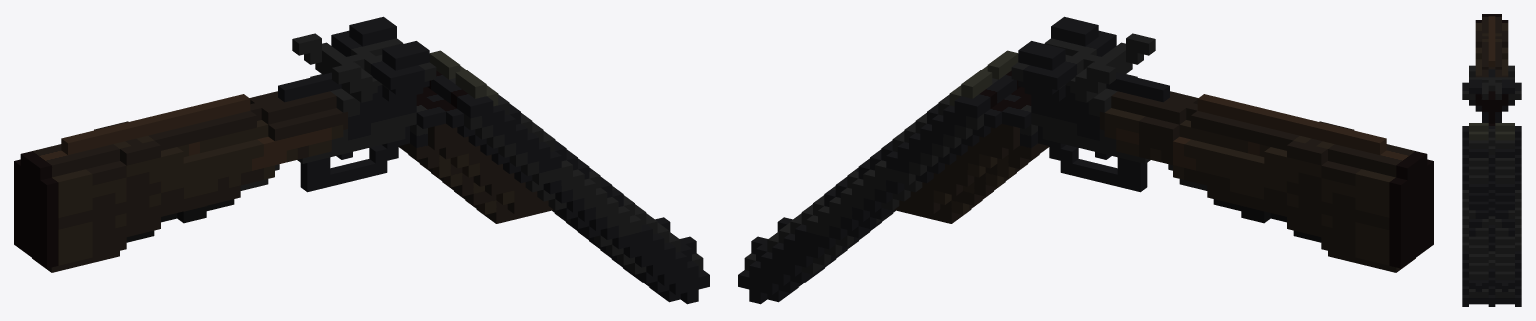
Rendered from ssg3.obj.
The picture shows the model from 3 angles, left to right: view 1: azimuth 30°, elevation 25°; view 2: azimuth 150°, elevation 25°; view 3: azimuth 270°, elevation 25°; orthographic projection. The views are drawn at different scales.
Visible parts, largest first — view 1: state3-flat; view 2: state3-flat; view 3: state3-flat.
Boxes of the visible parts, box(x1,y1,x2,y2) form: state3-flat: box(14, 16, 709, 304); state3-flat: box(738, 16, 1433, 304); state3-flat: box(1462, 14, 1521, 306).
Size of the model in its own units: 111 by 50.69 by 17.55.
